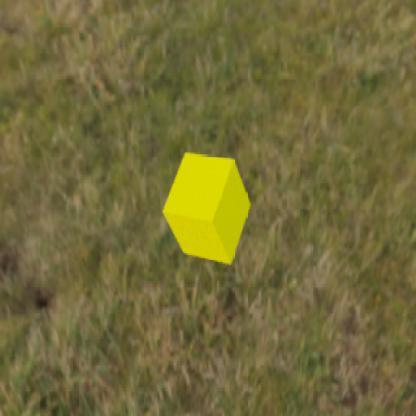yellow_cube: (161, 150, 250, 264)
